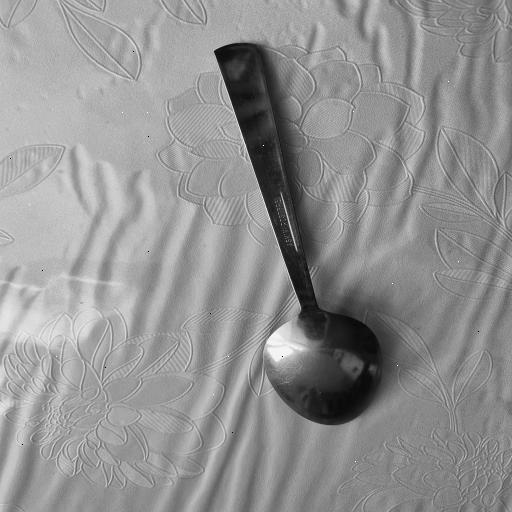spoon: (212, 44, 387, 430)
